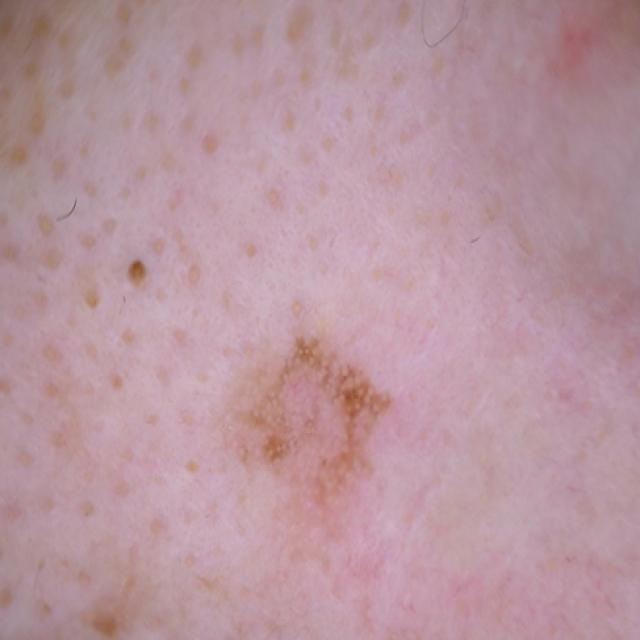Keratosis: (214, 250, 439, 546)
